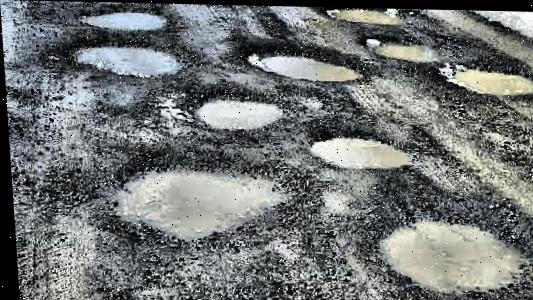pothole: (92, 152, 301, 246), (362, 208, 528, 296), (63, 34, 192, 79), (238, 38, 366, 82), (300, 127, 409, 169), (187, 87, 283, 130), (441, 60, 533, 95), (73, 5, 170, 30), (367, 35, 447, 62), (319, 6, 408, 25)
